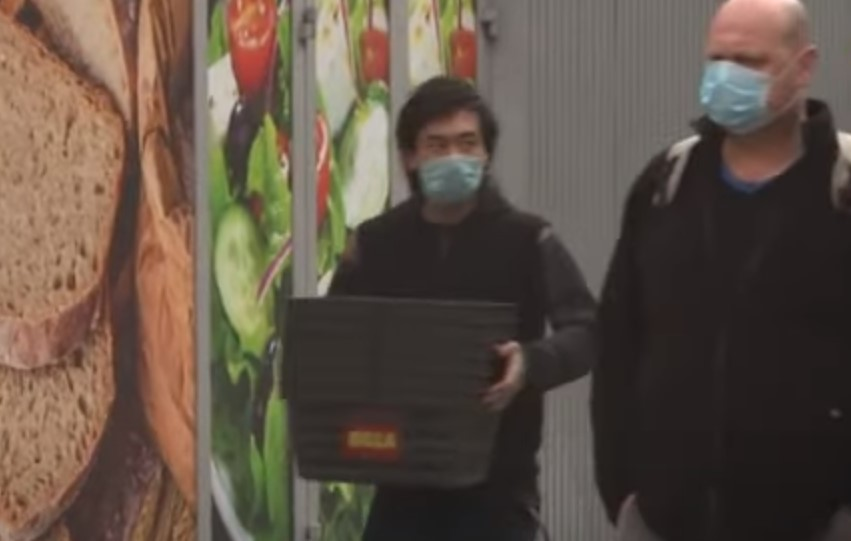face_with_mask: (703, 0, 818, 135), (405, 97, 499, 210)
